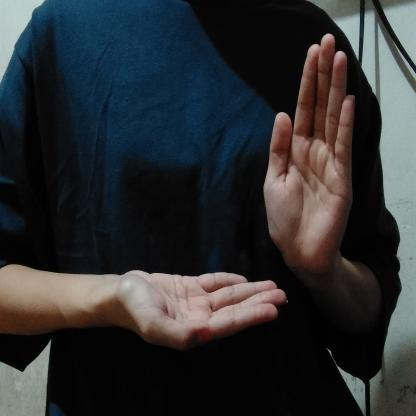hello: (91, 27, 386, 357)
